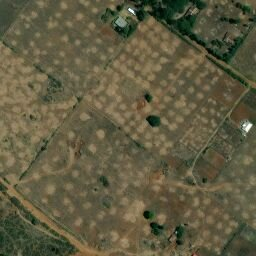tree: (148, 115, 160, 127), (144, 211, 153, 219), (229, 18, 241, 24), (31, 218, 40, 225), (150, 222, 159, 228), (146, 95, 152, 102), (176, 232, 183, 238), (202, 177, 207, 183)
